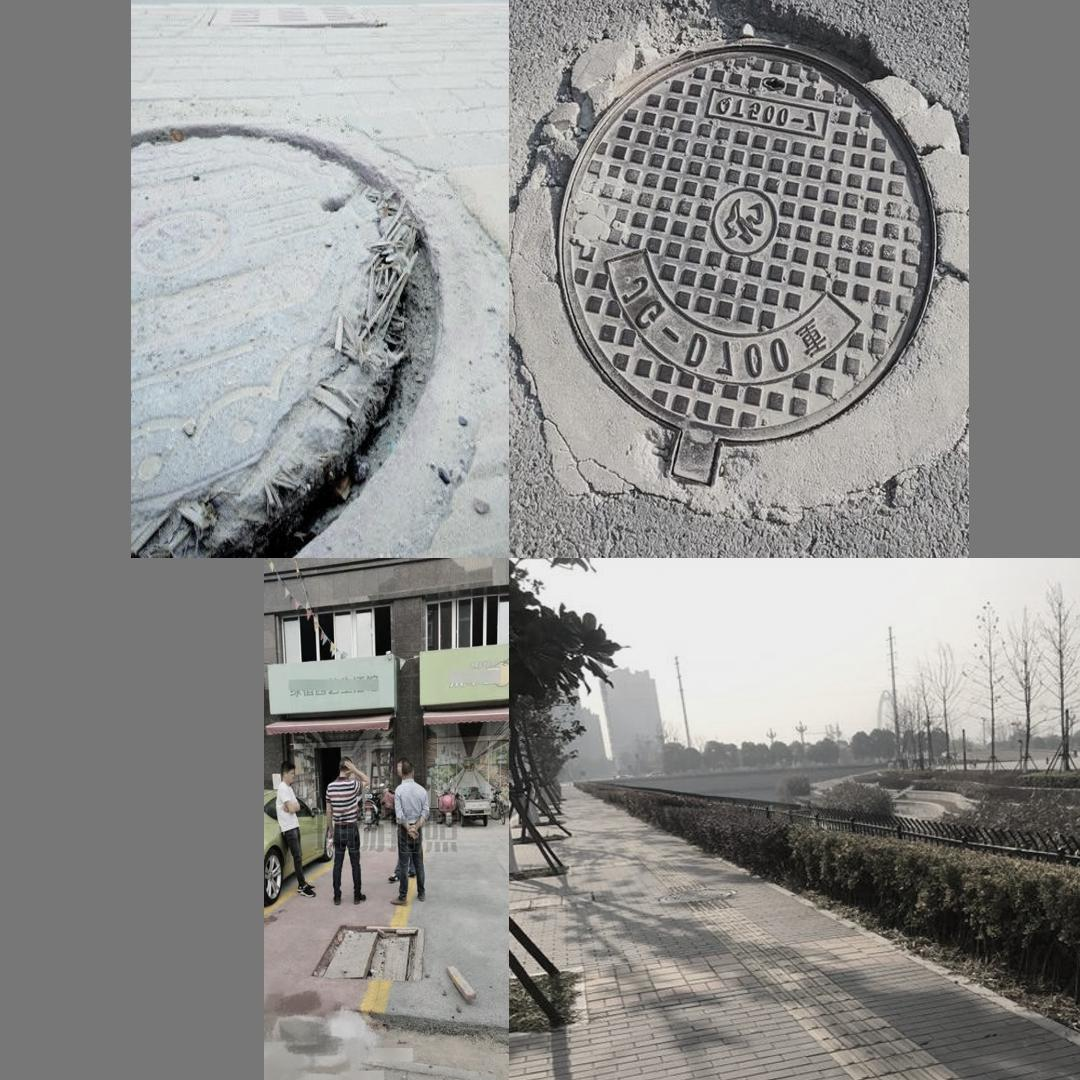circle: (524, 2, 955, 509), (137, 100, 487, 544), (316, 925, 424, 983)
